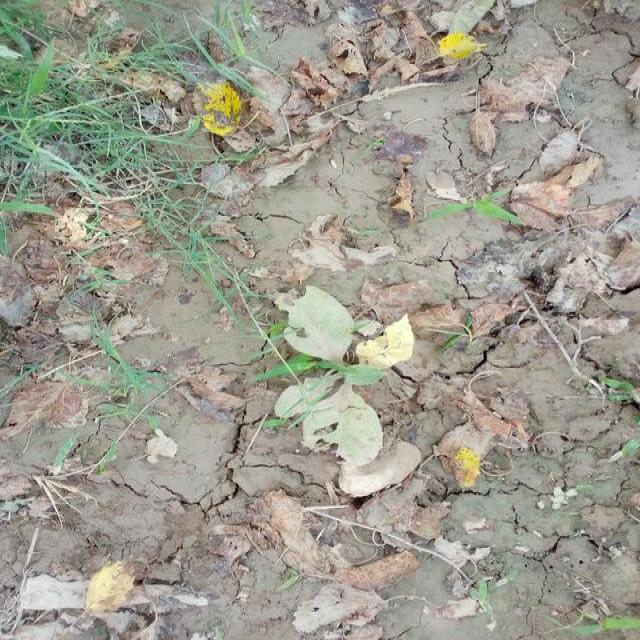crop: (280, 289, 418, 470)
